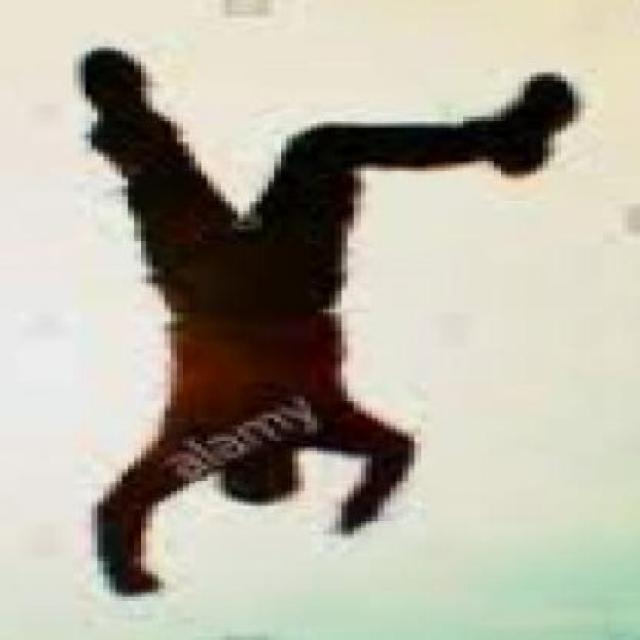fall: (34, 42, 608, 602)
